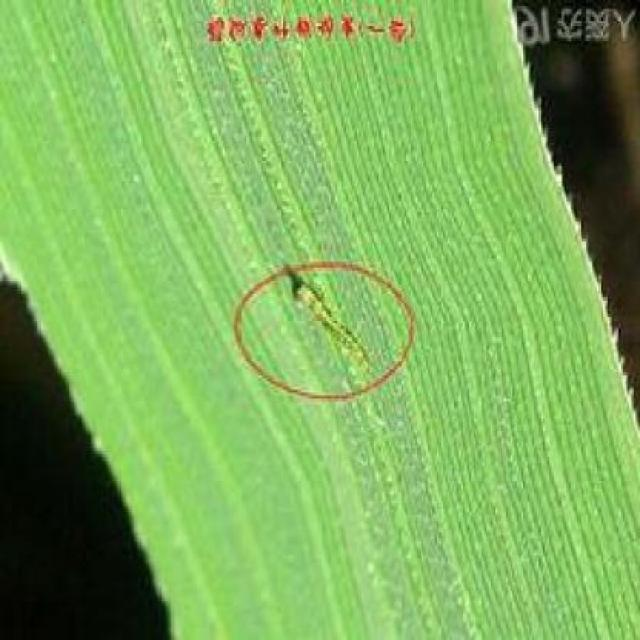leaf-folder: (280, 251, 389, 380)
